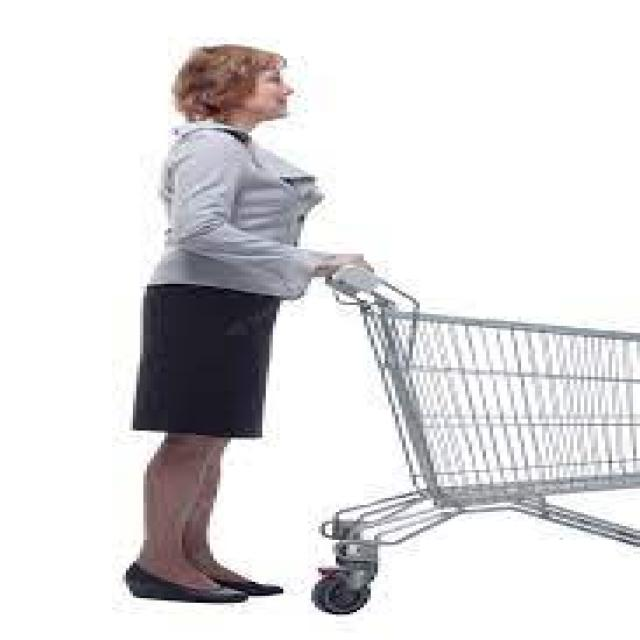Person: (126, 45, 369, 605)
